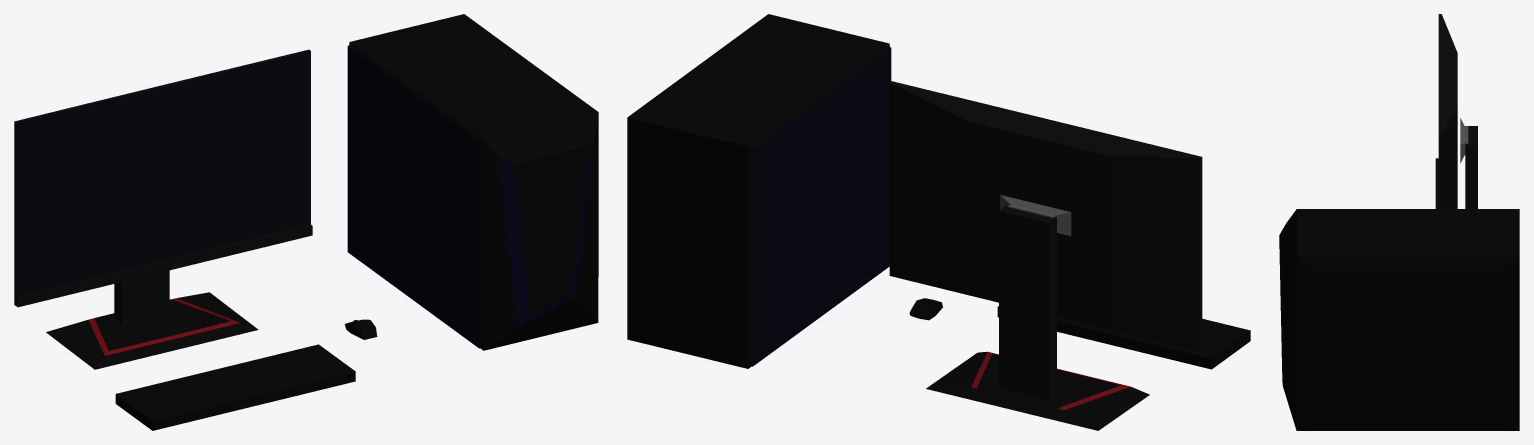
Rendered from computer01.obj.
3 renders of one model, left to right at view 1: azimuth 30°, elevation 25°; view 2: azimuth 150°, elevation 25°; view 3: azimuth 270°, elevation 25°, orthographic. The views are drawn at different scales.
Visible parts, largest first — view 1: ๅ, Cube, Cube.001; view 2: ๅ, Cube, Cube.001; view 3: ๅ, Cube.
Part boxes in pixels (x1,y1,x2,y2): ๅ: [347, 14, 598, 350]; Cube: [14, 49, 312, 369]; Cube.001: [115, 344, 355, 430]; ๅ: [627, 14, 891, 368]; Cube: [889, 81, 1204, 430]; Cube.001: [997, 306, 1250, 369]; ๅ: [1279, 209, 1519, 430]; Cube: [1435, 14, 1477, 208].
Bounding box in the file's own units: 6.35 × 3.14 × 3.18.
